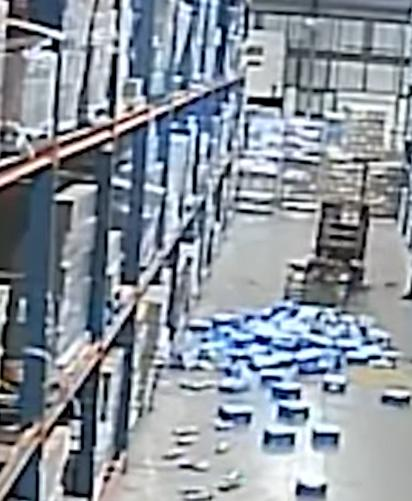NoHuman: (0, 6, 412, 501)
